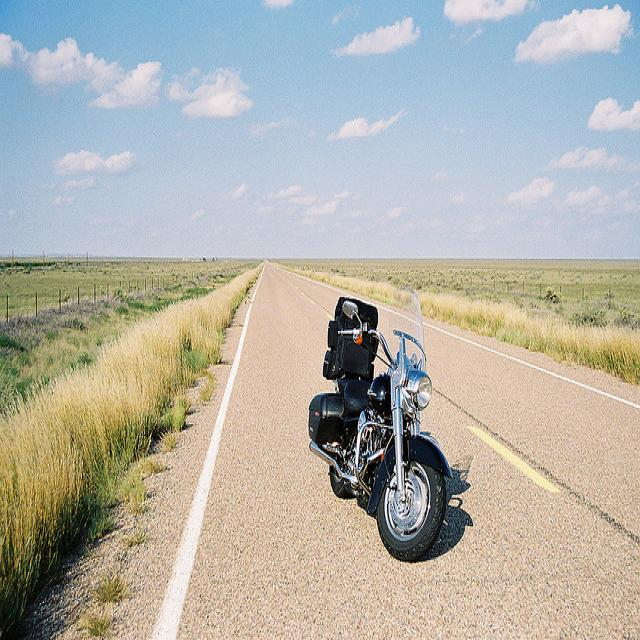motor: (309, 286, 455, 565)
